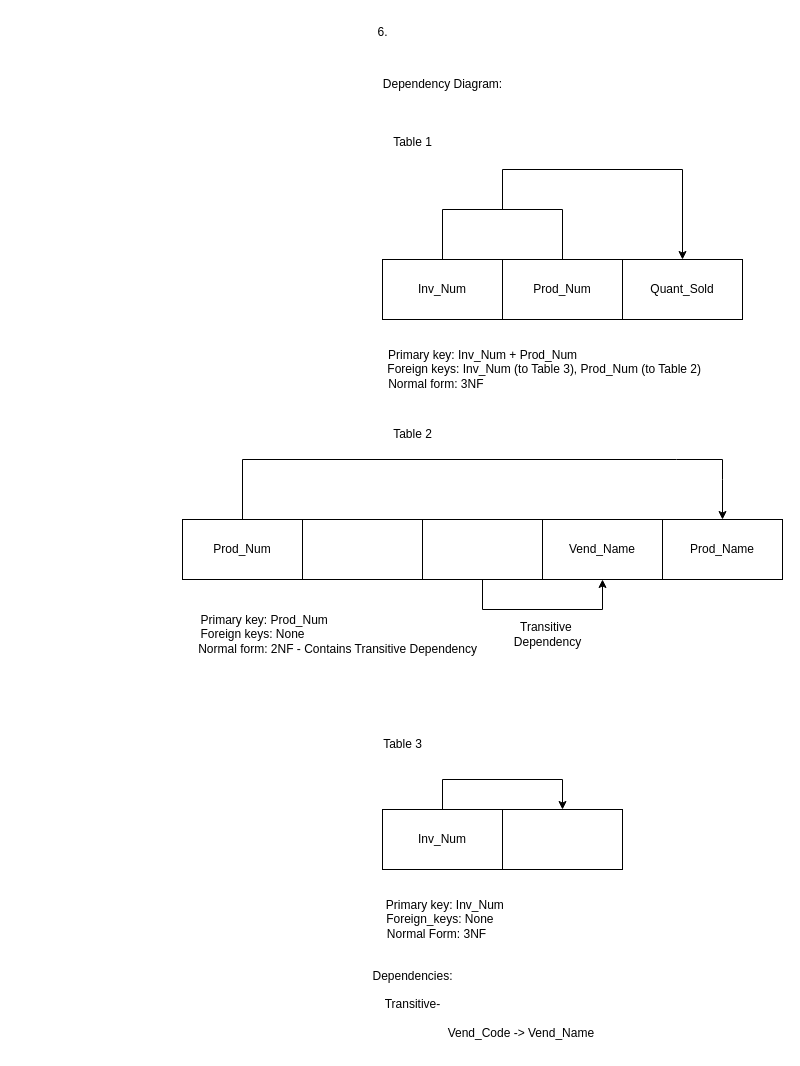
Some shapes in this 800 by 1066 pixel diagram are drawn without their labels. Each missing label, with the box of its shape:
Prod_Label: (302, 518, 422, 580)
Sale_Date: (502, 808, 622, 870)
Vend_Code: (422, 518, 542, 580)
